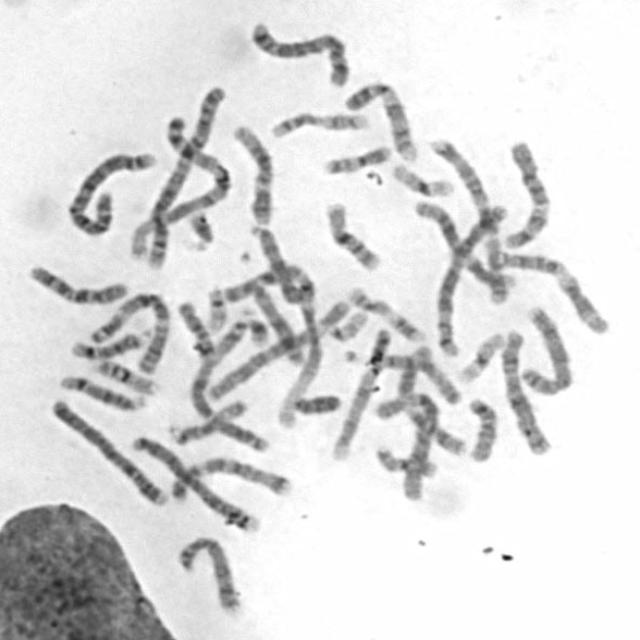A1: (128, 79, 230, 268), (124, 105, 240, 261)
A2: (128, 79, 230, 268), (64, 145, 161, 237)
A3: (182, 294, 272, 456), (86, 285, 174, 376)
B4: (46, 392, 172, 508), (125, 430, 261, 535)
B5: (431, 198, 510, 360), (244, 16, 352, 88)
C10: (500, 136, 555, 250), (22, 259, 132, 307)
C11: (491, 245, 616, 337), (216, 258, 324, 306)
C12: (410, 194, 520, 298), (228, 119, 278, 227)
C6: (197, 294, 355, 402), (372, 392, 444, 502)
C7: (431, 140, 517, 290), (164, 452, 295, 503)
C8: (171, 530, 245, 616), (518, 300, 577, 398)
C9: (326, 322, 395, 462), (338, 75, 420, 164)
D13: (243, 279, 307, 367), (245, 220, 307, 305)
D14: (55, 369, 149, 412), (66, 325, 154, 361)
D15: (367, 346, 466, 408), (164, 394, 250, 446)
E16: (319, 195, 384, 273), (87, 354, 160, 396)
E17: (342, 280, 429, 344), (264, 105, 372, 139)
E18: (462, 392, 500, 463), (173, 296, 216, 358)
F19: (452, 327, 507, 385), (387, 157, 457, 198)
F20: (318, 139, 395, 176), (370, 441, 439, 480)
G21: (183, 205, 218, 253), (240, 304, 272, 348)
G22: (321, 305, 371, 343), (201, 282, 231, 334)
X: (496, 325, 555, 457)
Y: (285, 388, 344, 416)
